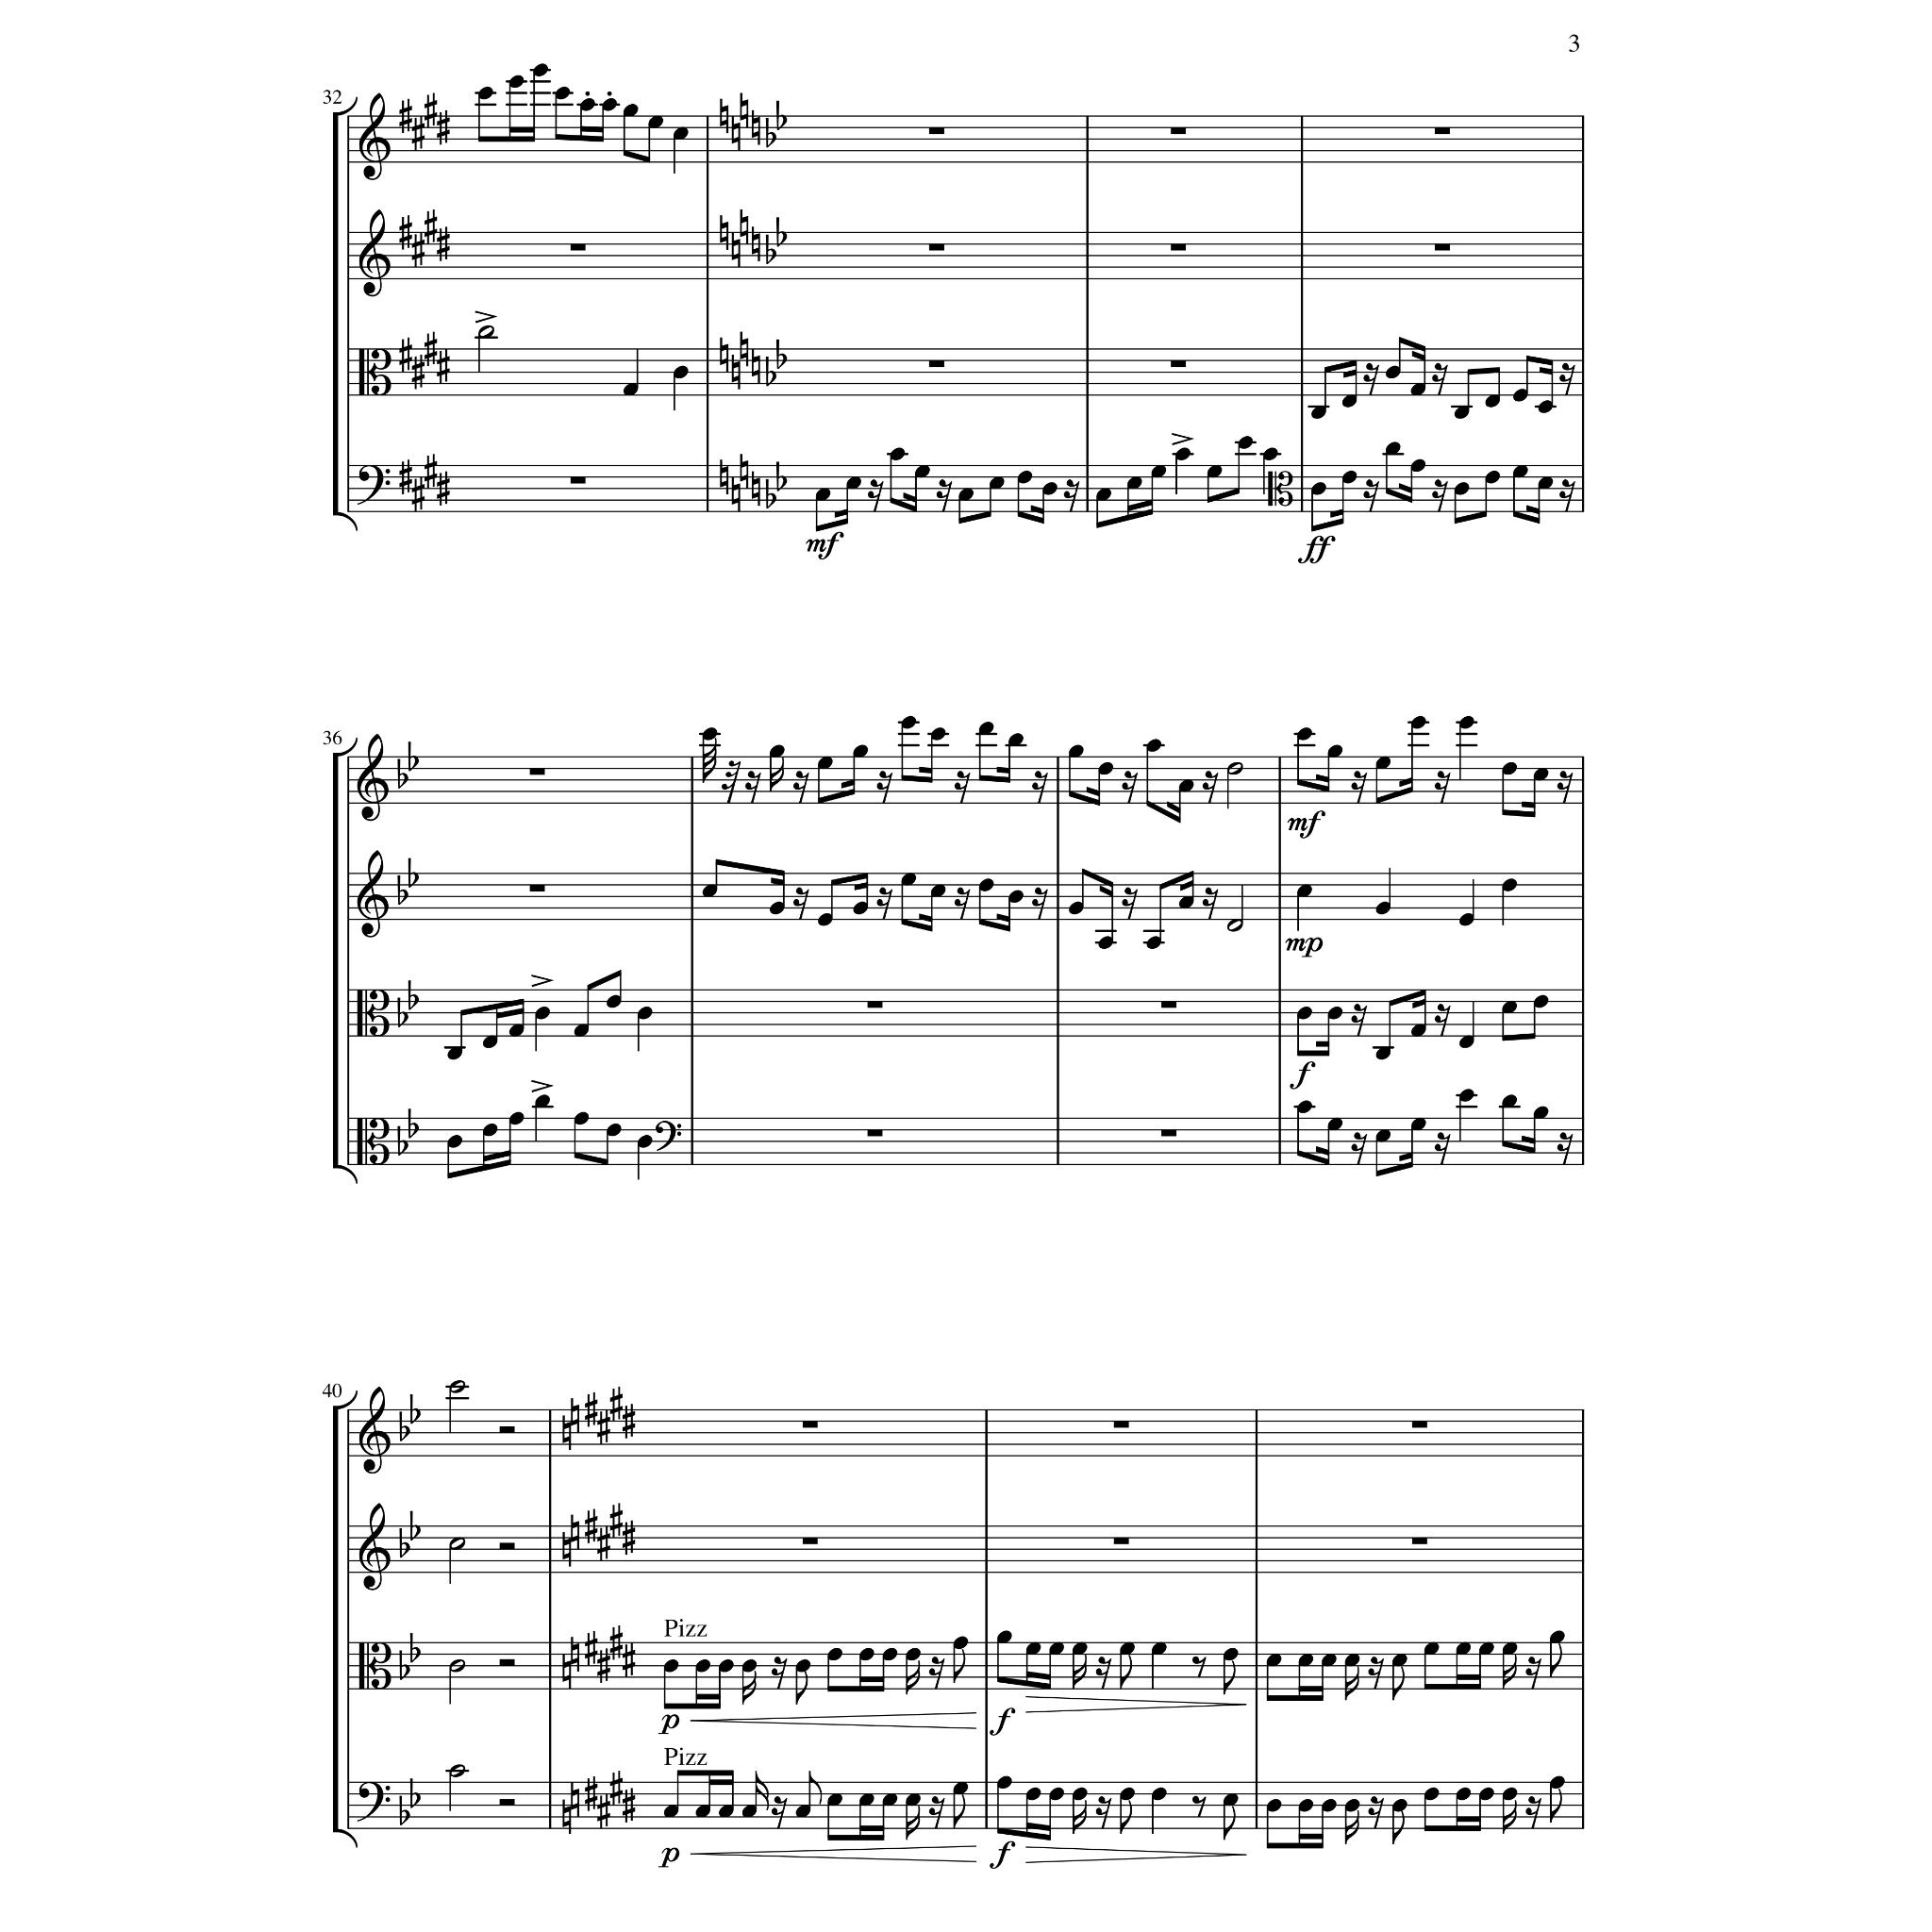fClef: (357, 464, 391, 506), (357, 1781, 391, 1823)
flag16thDown: (1344, 1809, 1359, 1845), (741, 1670, 757, 1706), (770, 758, 785, 791), (1502, 1655, 1517, 1689), (1502, 1800, 1517, 1834), (1344, 1666, 1359, 1700), (906, 1660, 921, 1694), (906, 1806, 921, 1840), (1074, 1655, 1087, 1689), (1074, 1800, 1087, 1834)
flag16thUp: (756, 1772, 769, 1811)
flag8thDown: (1392, 1809, 1406, 1845), (1392, 1666, 1406, 1700), (953, 1649, 966, 1683), (953, 1794, 966, 1828), (1224, 1660, 1236, 1694), (1224, 1806, 1236, 1840), (1121, 1655, 1132, 1689), (1121, 1800, 1132, 1834), (1551, 1643, 1562, 1677), (1551, 1789, 1562, 1823), (796, 1671, 808, 1705)
flag8thUp: (808, 1771, 822, 1805)
gClef: (358, 209, 391, 298), (358, 92, 391, 181), (357, 850, 389, 939), (357, 733, 389, 822), (358, 1386, 391, 1474), (358, 1504, 391, 1591)
noteheadBlack: (1206, 464, 1223, 479), (1511, 464, 1528, 479), (913, 464, 930, 479), (1326, 1006, 1343, 1021), (636, 1006, 653, 1021), (534, 1006, 551, 1021), (900, 872, 917, 887), (662, 1804, 679, 1819), (694, 1804, 711, 1819), (717, 1804, 734, 1819), (794, 1804, 811, 1819), (1238, 436, 1253, 451), (1151, 464, 1166, 479), (1538, 400, 1553, 415), (1375, 1128, 1391, 1143), (1296, 1006, 1311, 1021), (1296, 1100, 1311, 1115), (741, 1804, 757, 1819), (1385, 442, 1402, 456), (1409, 459, 1426, 473), (1409, 383, 1426, 396), (1385, 366, 1402, 379), (1174, 448, 1191, 461), (1126, 476, 1143, 490), (1309, 482, 1326, 495), (1309, 407, 1326, 420), (1262, 448, 1279, 461), (1453, 482, 1470, 495), (1453, 407, 1470, 420), (1511, 389, 1528, 402), (579, 98, 596, 111), (672, 366, 689, 379), (672, 127, 689, 141), (647, 116, 664, 129), (532, 64, 549, 77), (508, 75, 525, 89), (477, 87, 494, 100), (1041, 482, 1058, 495), (989, 476, 1006, 490), (845, 476, 862, 490), (889, 448, 906, 461), (1326, 745, 1343, 758), (1326, 1118, 1343, 1131), (1145, 740, 1162, 753), (1145, 936, 1162, 949), (1177, 779, 1194, 792), (1177, 896, 1194, 909), (1532, 768, 1549, 781), (1532, 995, 1549, 1008), (1532, 1107, 1549, 1120), (1409, 716, 1426, 729), (1409, 1024, 1426, 1038), (1409, 1118, 1426, 1131), (1458, 716, 1475, 729), (1458, 913, 1475, 926), (1458, 1036, 1475, 1049), (1458, 1089, 1475, 1102), (636, 1135, 653, 1148), (606, 995, 623, 1008), (606, 1124, 623, 1137), (768, 745, 785, 758), (768, 902, 785, 915), (508, 1024, 525, 1038), (508, 1112, 525, 1125), (534, 1094, 551, 1108), (481, 1124, 498, 1137), (481, 1036, 498, 1049), (977, 722, 994, 735), (977, 878, 994, 891), (930, 884, 947, 897), (1068, 745, 1085, 758), (1068, 902, 1085, 915), (930, 727, 947, 741), (817, 757, 834, 770), (817, 913, 834, 926), (900, 716, 917, 729), (1321, 1799, 1338, 1812), (1321, 1654, 1338, 1667), (1119, 1641, 1136, 1655), (1119, 1787, 1136, 1800), (1423, 1641, 1440, 1655), (1423, 1787, 1440, 1800), (1343, 1654, 1360, 1667), (1343, 1799, 1360, 1812), (1455, 1641, 1472, 1655), (1455, 1787, 1472, 1800), (662, 1659, 679, 1673), (694, 1659, 711, 1673), (717, 1659, 734, 1673), (1024, 1641, 1041, 1655), (1024, 1787, 1041, 1800), (996, 1630, 1013, 1643), (996, 1775, 1013, 1789), (826, 1648, 843, 1661), (826, 1793, 843, 1807), (794, 1659, 811, 1673), (881, 1793, 898, 1807), (881, 1648, 898, 1661), (858, 1648, 875, 1661), (858, 1793, 875, 1807), (1341, 471, 1357, 484), (1341, 394, 1357, 408), (1485, 394, 1500, 408), (1485, 471, 1500, 484), (1538, 476, 1553, 490), (623, 383, 638, 396), (623, 104, 638, 117), (602, 98, 617, 111), (555, 87, 570, 100), (815, 488, 830, 501), (1017, 471, 1032, 484), (958, 488, 974, 501), (1096, 488, 1111, 501), (1375, 902, 1391, 915), (1375, 757, 1391, 770), (1375, 1047, 1391, 1060), (1098, 762, 1113, 775), (1098, 936, 1113, 949), (1296, 727, 1311, 741), (1296, 884, 1311, 897), (1502, 762, 1517, 775), (1502, 878, 1517, 891), (1502, 1001, 1517, 1014), (1502, 1094, 1517, 1108), (702, 727, 717, 741), (702, 884, 717, 897), (574, 1024, 589, 1038), (574, 1112, 589, 1125), (447, 1047, 462, 1060), (447, 1135, 462, 1148), (1008, 733, 1023, 746), (1008, 891, 1023, 904), (853, 745, 868, 758), (853, 902, 868, 915), (1223, 1793, 1238, 1807), (1266, 1654, 1281, 1667), (1266, 1799, 1281, 1812), (1223, 1648, 1238, 1661), (1298, 1654, 1313, 1667), (1298, 1799, 1313, 1812), (1072, 1641, 1087, 1655), (1072, 1787, 1087, 1800), (1049, 1641, 1064, 1655), (1049, 1787, 1064, 1800), (1151, 1787, 1166, 1800), (1151, 1641, 1166, 1655), (1549, 1775, 1564, 1789), (1549, 1630, 1564, 1643), (1392, 1654, 1407, 1667), (1392, 1799, 1407, 1812), (1479, 1641, 1494, 1655), (1479, 1787, 1494, 1800), (1502, 1641, 1517, 1655), (1502, 1787, 1517, 1800), (741, 1659, 757, 1673), (953, 1782, 968, 1795), (953, 1636, 968, 1649), (906, 1648, 921, 1661), (906, 1793, 921, 1807)
noteheadHalf: (448, 1536, 465, 1551), (477, 325, 494, 339), (1226, 762, 1243, 775), (1226, 919, 1243, 932), (448, 1380, 465, 1393), (448, 1659, 465, 1673), (448, 1764, 465, 1777)
rest16th: (1363, 479, 1380, 513), (1558, 479, 1575, 513), (1431, 479, 1448, 513), (936, 479, 953, 513), (1063, 479, 1080, 513), (867, 479, 884, 513), (1351, 771, 1368, 805), (1351, 1004, 1368, 1038), (1351, 1132, 1368, 1166), (1121, 771, 1138, 805), (1121, 887, 1138, 921), (1202, 771, 1219, 805), (1202, 887, 1219, 921), (1557, 771, 1574, 805), (1557, 1132, 1574, 1166), (1434, 1132, 1451, 1166), (1434, 771, 1451, 805), (1434, 1004, 1451, 1038), (744, 771, 761, 805), (954, 771, 971, 805), (954, 887, 971, 921), (1031, 771, 1048, 805), (1031, 887, 1048, 921), (792, 771, 809, 805), (792, 887, 809, 921), (875, 887, 892, 921), (875, 771, 892, 805), (1094, 1796, 1111, 1830), (1524, 1796, 1541, 1830), (1367, 1796, 1384, 1830), (928, 1796, 945, 1830), (771, 1796, 788, 1830), (1363, 364, 1380, 396), (1558, 364, 1575, 396), (1431, 364, 1448, 396), (1094, 1657, 1111, 1689), (1524, 1657, 1541, 1689), (1367, 1657, 1384, 1689), (928, 1657, 945, 1689), (771, 1657, 788, 1689)
rest8th: (1191, 1656, 1207, 1678), (1191, 1795, 1207, 1818)
restHalf: (498, 1426, 515, 1434), (498, 1542, 515, 1550), (498, 1658, 515, 1666), (498, 1799, 515, 1807)
restWhole: (1170, 244, 1187, 252), (1170, 127, 1187, 135), (1170, 360, 1187, 368), (1434, 244, 1451, 252), (1434, 127, 1451, 135), (1160, 1129, 1177, 1137), (1160, 1001, 1177, 1008), (866, 1129, 883, 1137), (866, 1001, 883, 1008), (528, 768, 545, 775), (528, 885, 545, 892), (1411, 1421, 1428, 1428), (1411, 1538, 1428, 1545), (928, 127, 943, 135), (928, 244, 943, 252), (928, 360, 943, 368), (570, 476, 585, 484), (570, 244, 585, 252), (802, 1421, 817, 1428), (1113, 1538, 1128, 1545), (1113, 1421, 1128, 1428), (802, 1538, 817, 1545)
